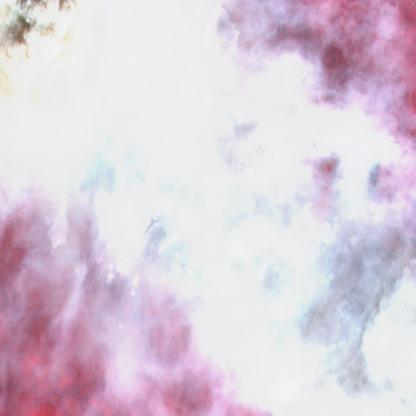fire: (42, 50, 323, 254)
